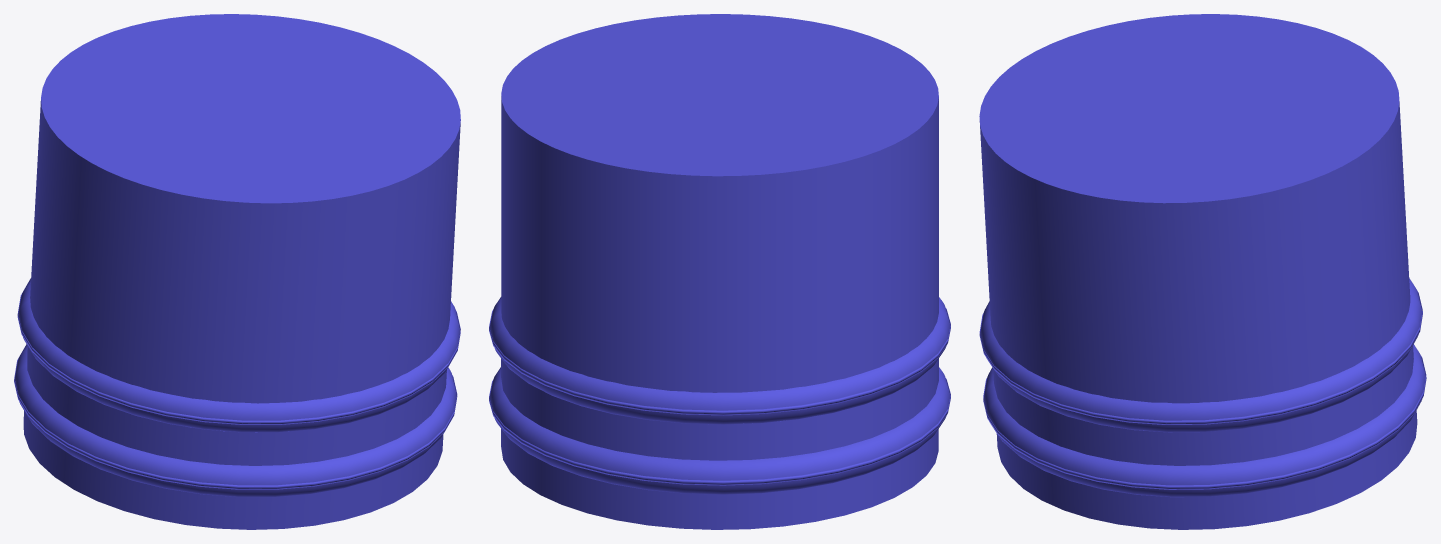
File: bombilla188.obj
3 renders of one model, left to right at view 1: azimuth 30°, elevation 25°; view 2: azimuth 150°, elevation 25°; view 3: azimuth 270°, elevation 25°, orthographic. The views are drawn at different scales.
Visible parts, largest first — view 1: Cylinder001, Cylinder004, Cylinder003, Cylinder002, Cylinder006; view 2: Cylinder001, Cylinder004, Cylinder003, Cylinder006, Cylinder002; view 3: Cylinder001, Cylinder004, Cylinder003, Cylinder002, Cylinder006.
Part boxes in pixels (x1,y1,x2,y2): Cylinder001: [30, 14, 460, 403]; Cylinder004: [14, 344, 457, 496]; Cylinder003: [27, 346, 446, 465]; Cylinder002: [17, 278, 460, 432]; Cylinder006: [23, 411, 443, 529]; Cylinder001: [501, 14, 938, 392]; Cylinder004: [489, 367, 950, 494]; Cylinder003: [501, 358, 938, 460]; Cylinder006: [501, 429, 938, 529]; Cylinder002: [489, 297, 950, 424]; Cylinder001: [979, 14, 1410, 403]; Cylinder004: [983, 344, 1426, 497]; Cylinder003: [993, 346, 1413, 465]; Cylinder002: [979, 278, 1422, 432]; Cylinder006: [996, 410, 1417, 529].
Bounding box in the file's own units: 72.53 × 63.34 × 72.77.
